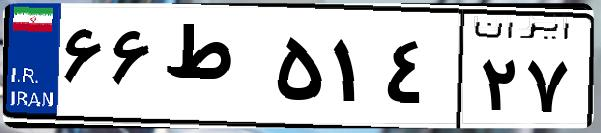1: (330, 28, 385, 110)
2: (475, 38, 525, 113)
4: (385, 28, 445, 110)
5: (270, 28, 330, 110)
6: (57, 26, 110, 100), (110, 28, 158, 98)
7: (525, 38, 570, 115)
ط: (158, 20, 270, 120)
